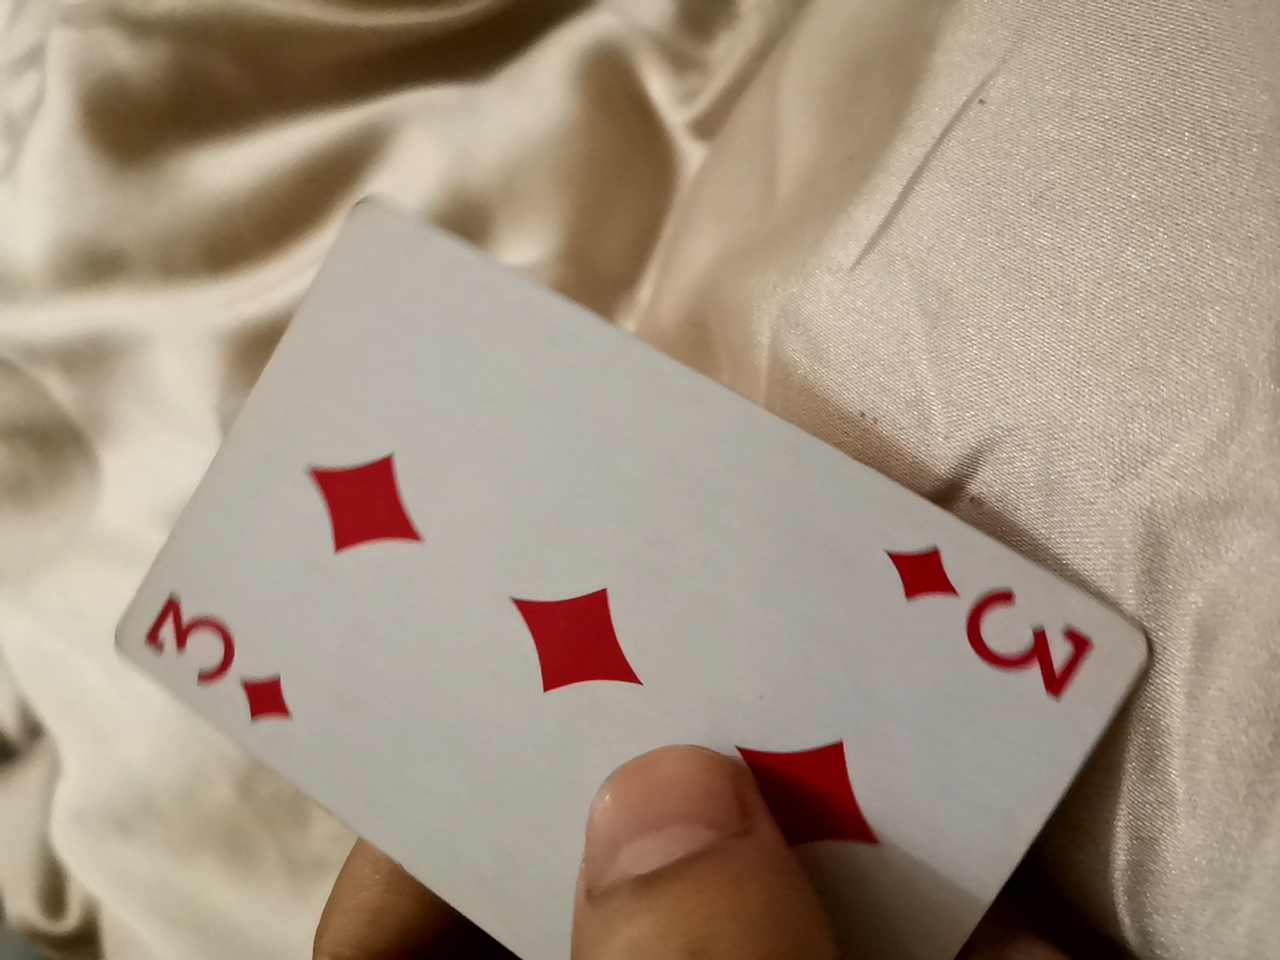fk 3: (70, 279, 1080, 951)
